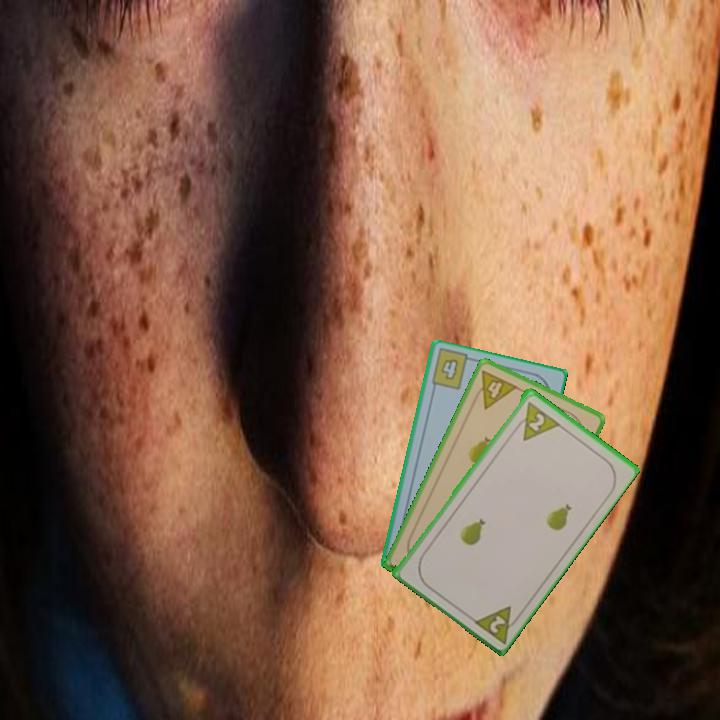2p: (468, 601, 525, 646), (510, 397, 561, 443)
4b: (437, 355, 461, 383)
4p: (468, 366, 521, 412)
